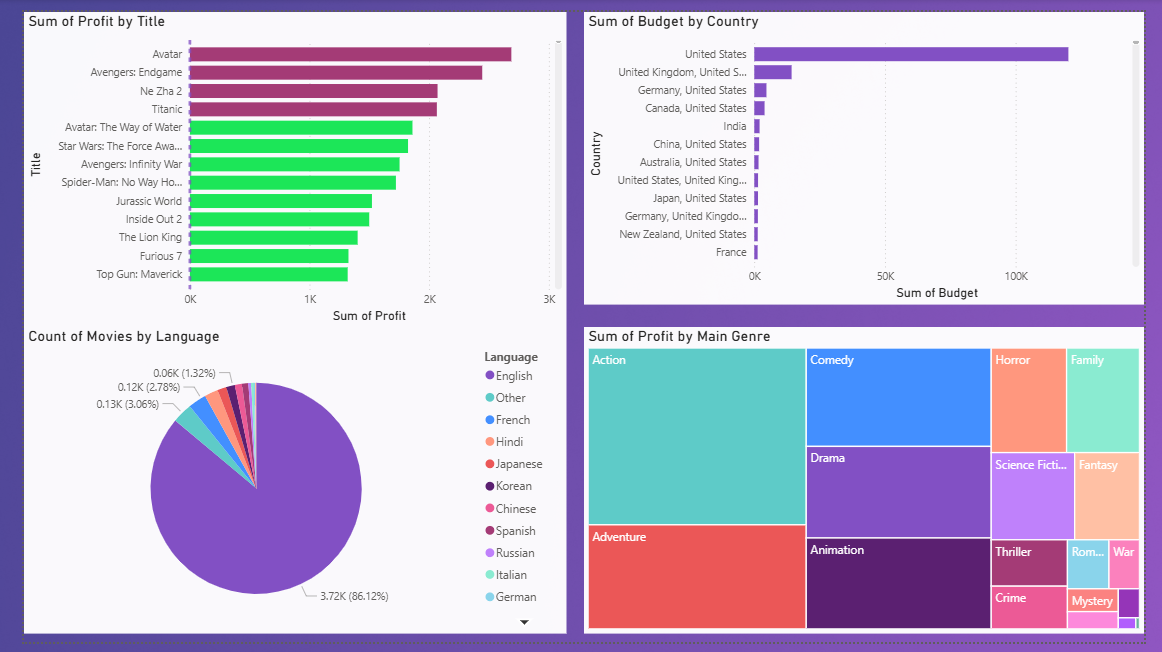

The dashboard page shown, as its layout file describes it:
{"tool":"powerbi","page":{"name":"Page 2","canvas":[1280,720],"ordinal":1},"visuals":[{"type":"clusteredBarChart","fields":{"Category":["Movies_Datas.Title"],"Y":["Sum(Movies_Datas.Profit)"]},"box":[0,0,620,360],"z":0},{"type":"pieChart","title":"Count of Movies by Language","fields":{"Category":["Movies_Datas.Language"],"Y":["CountNonNull(Movies_Datas.Movie ID)"]},"box":[0,360,620,350],"z":1000},{"type":"barChart","fields":{"Category":["Movies_Datas.Country"],"Y":["Sum(Movies_Datas.Budget)"]},"box":[640,0,640,334.3],"z":2000},{"type":"treemap","title":"Sum of Profit by Main Genre","fields":{"Group":["Movies_Datas.Main_Genre"],"Values":["Sum(Movies_Datas.Profit)"]},"box":[640,360,640,350],"z":3000}]}

Visuals, with their boxes in screenshot pixels (x1, y1, x2, y2), scaled from the page's 1280x720 canvas onto the 1162x652 screenshot:
clusteredBarChart - Movies_Datas.Title x Sum(Movies_Datas.Profit): bbox(0, 0, 563, 326)
"Count of Movies by Language" pieChart: bbox(0, 326, 563, 643)
barChart - Movies_Datas.Country x Sum(Movies_Datas.Budget): bbox(581, 0, 1161, 303)
"Sum of Profit by Main Genre" treemap: bbox(581, 326, 1161, 643)
